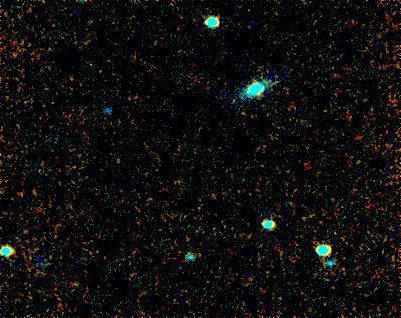star: (239, 76, 269, 106)
